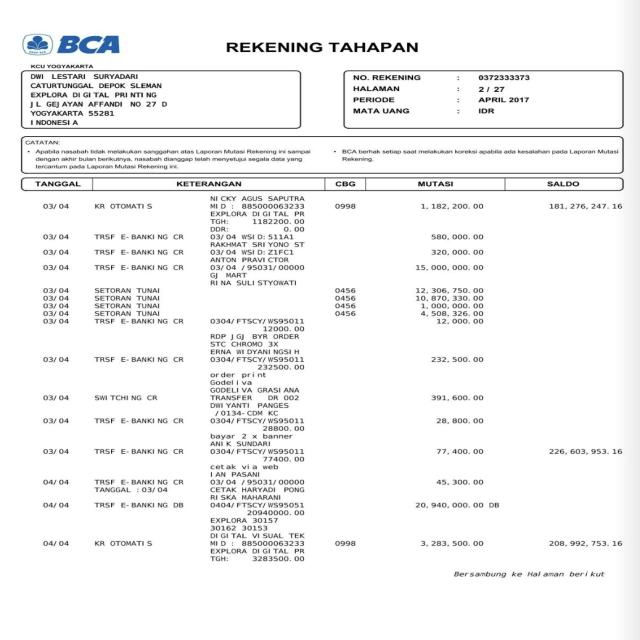transaction: (39, 499, 623, 538), (36, 316, 624, 354), (35, 355, 622, 393), (40, 194, 623, 232), (37, 415, 620, 447), (35, 448, 623, 477), (38, 540, 624, 568), (36, 262, 624, 286), (34, 393, 621, 416), (32, 478, 626, 500), (36, 246, 624, 263), (38, 233, 624, 246), (38, 302, 625, 310), (38, 286, 624, 294), (38, 310, 626, 317), (37, 295, 624, 302)
